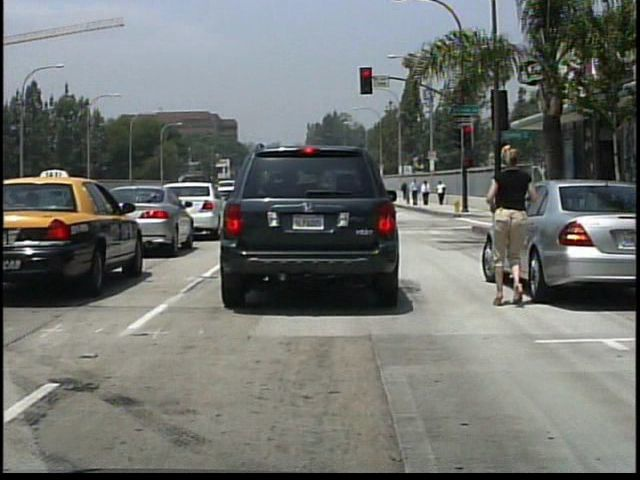person: (492, 132, 541, 314), (436, 178, 447, 205), (411, 178, 421, 207), (422, 179, 432, 206), (400, 180, 407, 202)
